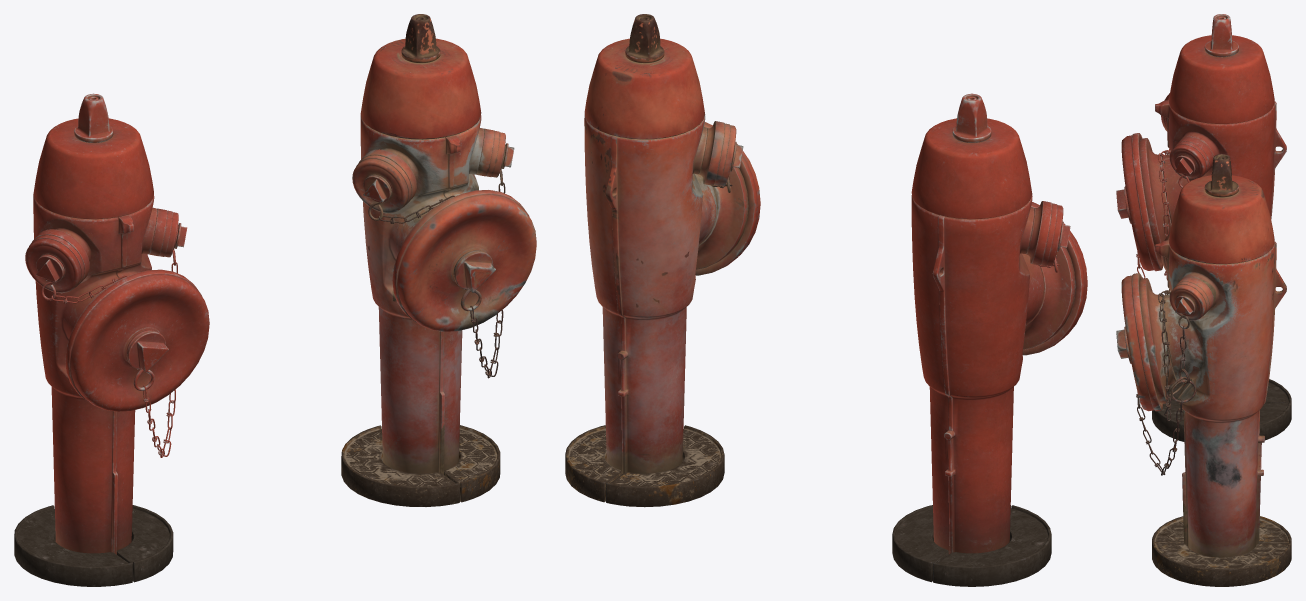
File: fire_hydrant_2k.fbx
3 views of the same model, side by side, from view 1: azimuth 30°, elevation 25°; view 2: azimuth 150°, elevation 25°; view 3: azimuth 270°, elevation 25° (orthographic). The views are drawn at different scales.
Visible parts, largest first — view 1: fire_hydrant_aged, fire_hydrant, fire_hydrant_cap_01, fire_hydrant_cap_01_aged, fire_hydrant_cap_03_aged, fire_hydrant_cap_03, fire_hydrant_chain_aged, fire_hydrant_chain, fire_hydrant_cap_02, fire_hydrant_cap_02_aged; view 2: fire_hydrant, fire_hydrant_aged, fire_hydrant_cap_01_aged, fire_hydrant_cap_01, fire_hydrant_cap_03_aged, fire_hydrant_cap_03; view 3: fire_hydrant_aged, fire_hydrant, fire_hydrant_cap_01, fire_hydrant_cap_01_aged, fire_hydrant_chain_aged, fire_hydrant_cap_02_aged, fire_hydrant_cap_02, fire_hydrant_chain.
Boxes of the visible parts, box(x1,y1,x2,y2) form: fire_hydrant_aged: box(341, 14, 500, 506); fire_hydrant: box(14, 93, 173, 586); fire_hydrant_cap_01: box(65, 269, 209, 411); fire_hydrant_cap_01_aged: box(392, 190, 536, 331); fire_hydrant_cap_03_aged: box(352, 155, 411, 213); fire_hydrant_cap_03: box(25, 235, 84, 293); fire_hydrant_chain_aged: box(368, 145, 505, 378); fire_hydrant_chain: box(41, 224, 178, 457); fire_hydrant_cap_02: box(159, 210, 187, 257); fire_hydrant_cap_02_aged: box(486, 130, 514, 177); fire_hydrant: box(892, 93, 1075, 586); fire_hydrant_aged: box(565, 14, 748, 507); fire_hydrant_cap_01_aged: box(695, 122, 760, 275); fire_hydrant_cap_01: box(1022, 202, 1087, 355); fire_hydrant_cap_03_aged: box(713, 123, 743, 186); fire_hydrant_cap_03: box(1041, 203, 1070, 266); fire_hydrant_aged: box(1139, 154, 1291, 586); fire_hydrant: box(1139, 14, 1291, 441); fire_hydrant_cap_01: box(1116, 133, 1162, 271); fire_hydrant_cap_01_aged: box(1116, 273, 1162, 411); fire_hydrant_chain_aged: box(1136, 289, 1196, 475); fire_hydrant_cap_02_aged: box(1169, 281, 1209, 320); fire_hydrant_cap_02: box(1169, 141, 1209, 180); fire_hydrant_chain: box(1136, 149, 1194, 279).
Size of the model in its own units: 87.46 by 79.95 by 31.77.
Materials: 2 (2 with a texture image).
